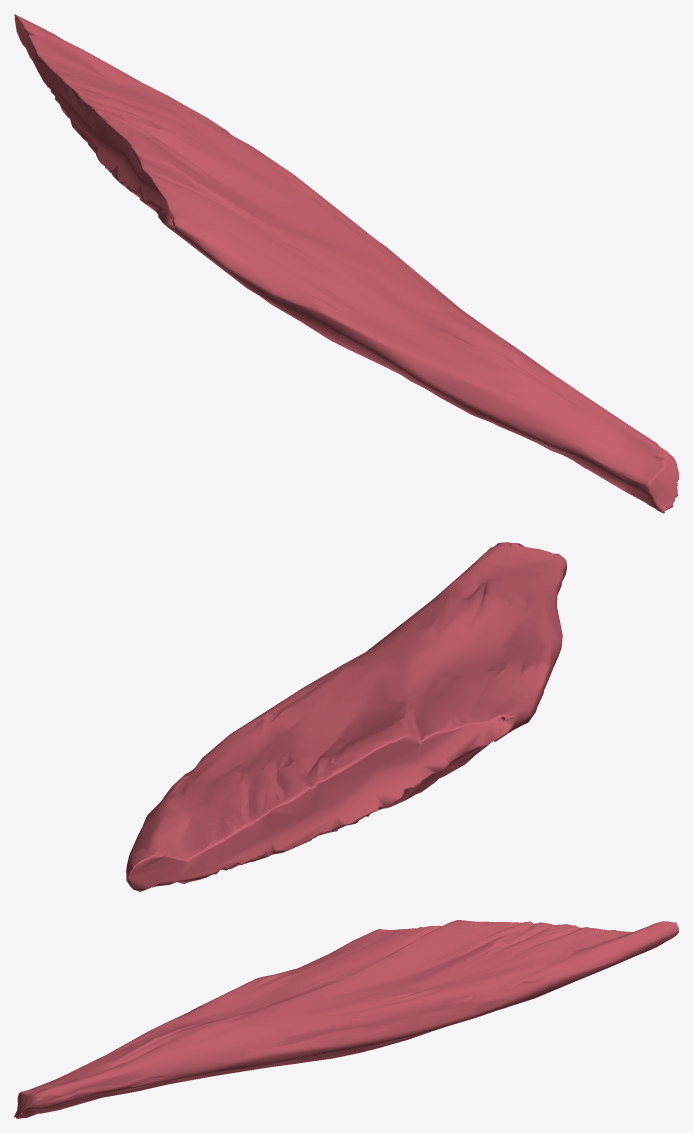
3 views of the same model, one above another, from view 1: azimuth 30°, elevation 25°; view 2: azimuth 150°, elevation 25°; view 3: azimuth 270°, elevation 25° (orthographic). The views are drawn at different scales.
Visible parts, largest first — view 1: 右侧长收肌; view 2: 右侧长收肌; view 3: 右侧长收肌.
Boxes of the visible parts, <box> form: 右侧长收肌: <box>14,14,678,513</box>; 右侧长收肌: <box>126,542,566,891</box>; 右侧长收肌: <box>14,920,678,1118</box>.
Size of the model in its own units: 0.1224 by 0.0881 by 0.3902.
